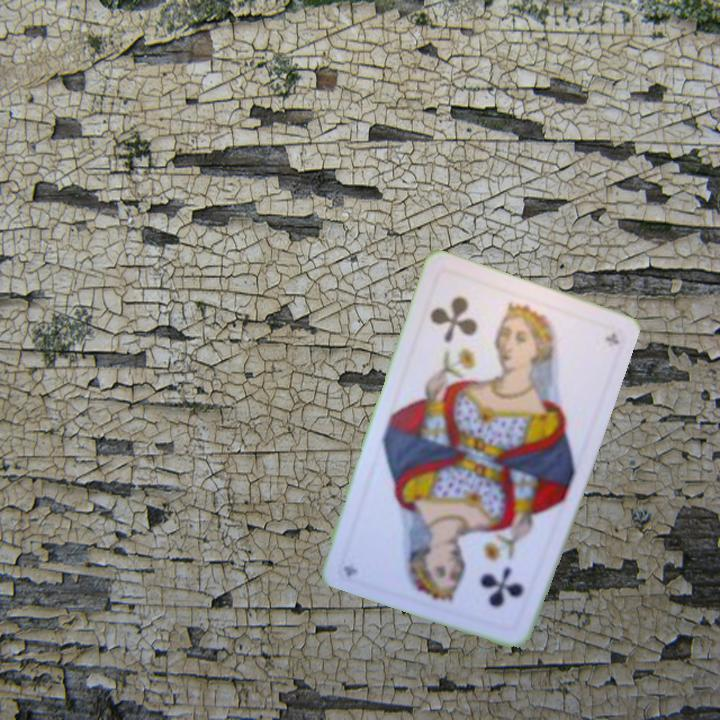c_q.png: (425, 521, 546, 633), (412, 267, 533, 379)
